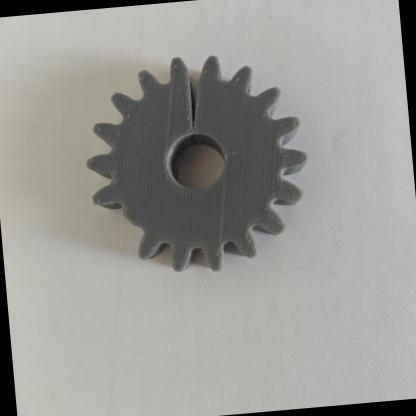defect: (139, 40, 246, 168), (94, 172, 180, 265)
gear: (50, 25, 346, 314)
